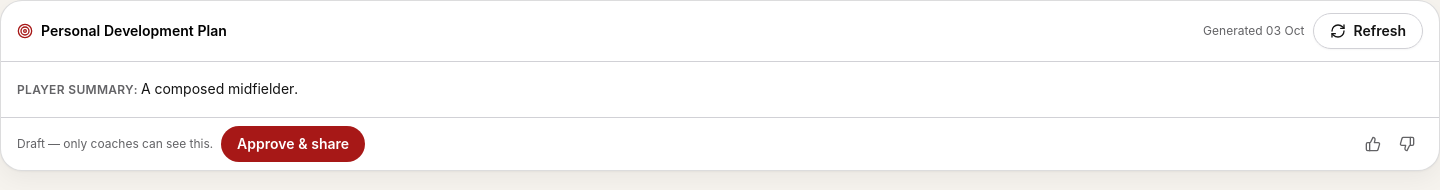
Test: DevelopmentPlanPanel › a draft says only coaches can see it and offers Approve; approving reports who
Expected: the text "Draft — only coaches can see this." is shown, [17,136,213,152]
Step 1. Click the button "Approve & share" → point(293, 144), box [221,126,365,162]
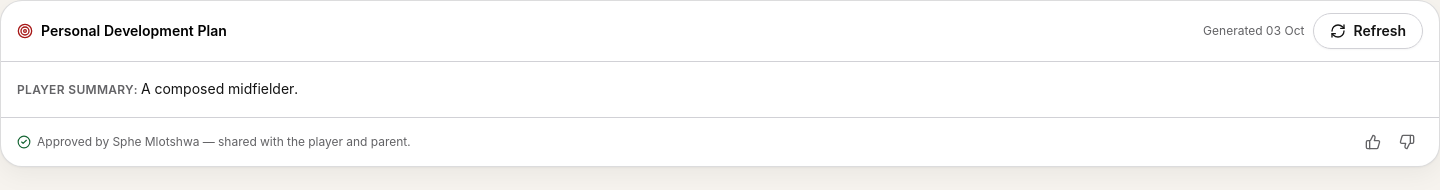
Result: the text "Approved by Sphe Mlotshwa — shared with the player and parent" is shown at [17,134,410,150]
Result: the button "Approve & share" is gone
